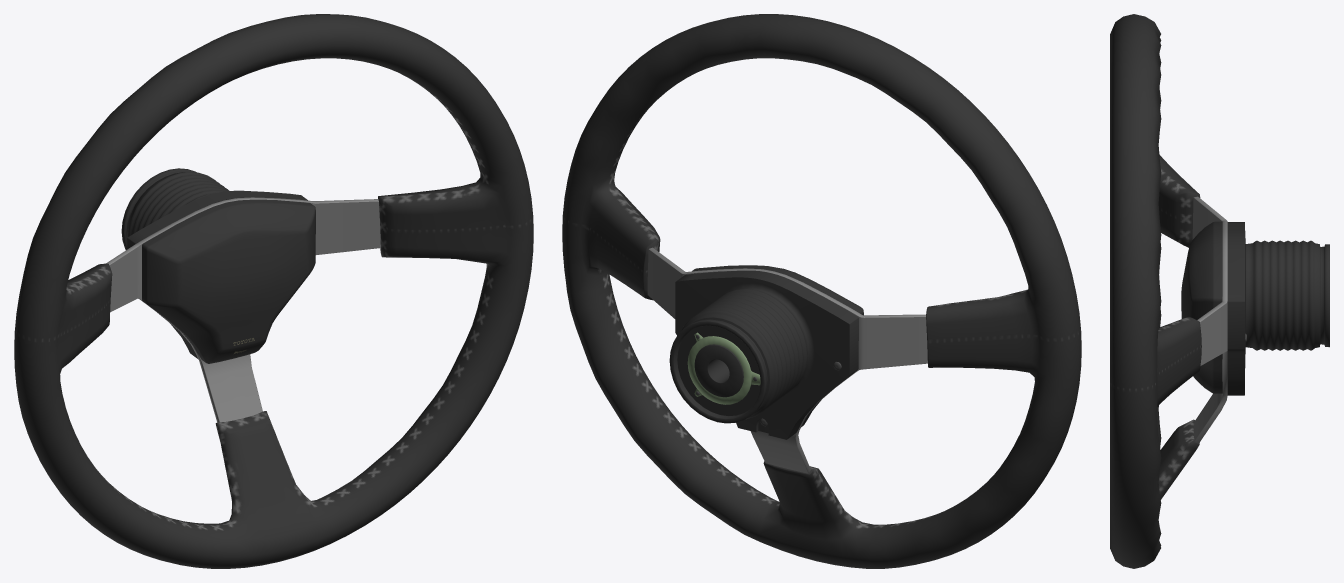
3 renders of one model, left to right at view 1: azimuth 30°, elevation 25°; view 2: azimuth 150°, elevation 25°; view 3: azimuth 270°, elevation 25°, orthographic. The views are drawn at different scales.
Parts seen in each view (by area): view 1: SteeringWheel; view 2: SteeringWheel; view 3: SteeringWheel.
Boxes of the visible parts, x1,y1,x2,y2 form: SteeringWheel: (14,14,533,568); SteeringWheel: (562,14,1081,568); SteeringWheel: (1110,14,1329,568).
Bounding box in the file's own units: 5.65 × 5.65 × 2.24.
1 material, 1 textured.
